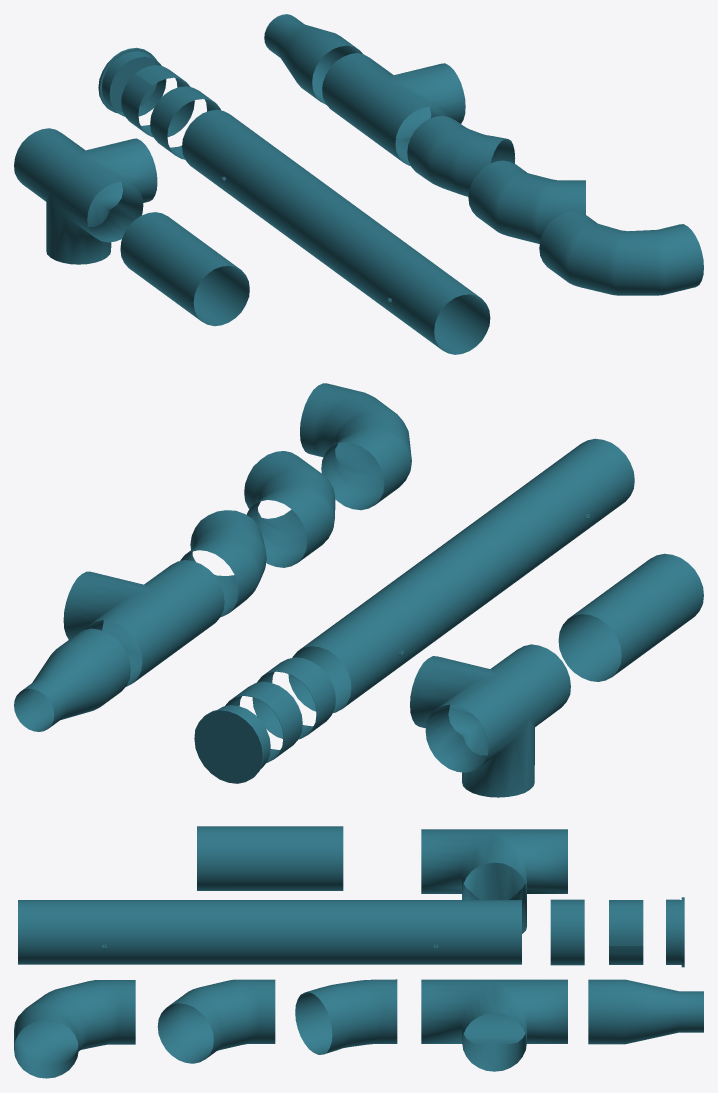
The model's file is Ventilation.FBX.
3 renders of one model, top to bottom at view 1: azimuth 30°, elevation 25°; view 2: azimuth 150°, elevation 25°; view 3: azimuth 270°, elevation 25°, orthographic. The views are drawn at different scales.
Parts seen in each view (by area): view 1: Object032, Object038, Line024, Object034, Object037, Object036, Object035, Object033, Object029, Object030, Object031; view 2: Object032, Object038, Object034, Object037, Line024, Object033, Object036, Object035, Object029, Object031, Object030; view 3: Object032, Object034, Object038, Object037, Line024, Object036, Object035, Object033, Object031, Object030, Object029.
Boxes of the visible parts, x1,y1,x2,y2 form: Object032: (182,109,490,354); Object038: (14,128,157,264); Line024: (539,211,703,295); Object034: (322,53,465,165); Object037: (120,212,249,326); Object036: (468,160,585,243); Object035: (407,115,515,196); Object033: (264,14,362,104); Object029: (98,47,166,116); Object030: (121,65,194,137); Object031: (150,86,221,159); Object032: (288,438,634,712); Object038: (410,644,570,797); Object034: (63,560,224,686); Object037: (558,553,703,681); Line024: (300,383,411,510); Object033: (14,628,130,731); Object036: (244,451,335,567); Object035: (180,510,266,616); Object029: (194,705,270,783); Object031: (252,657,335,739); Object030: (225,681,302,762); Object032: (18,900,521,964); Object034: (421,979,567,1071); Object038: (421,829,567,933); Object037: (197,826,343,890); Line024: (14,980,135,1078); Object036: (157,979,275,1063); Object035: (295,979,397,1054); Object033: (588,979,703,1044); Object031: (550,899,584,965); Object030: (609,900,643,964); Object029: (666,897,684,967).
Size of the model in its own units: 1865 by 414 by 2664.
